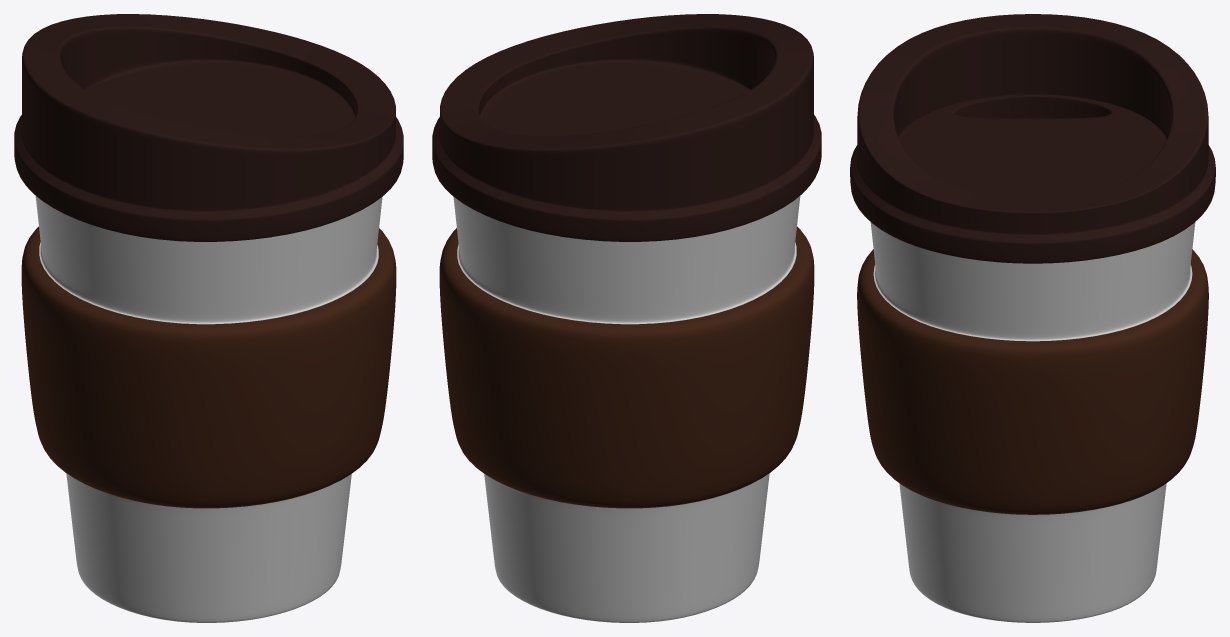
Rendered from coffeecup.gltf.
3 views of the same model, side by side, from view 1: azimuth 30°, elevation 25°; view 2: azimuth 150°, elevation 25°; view 3: azimuth 270°, elevation 25° (orthographic). The views are drawn at different scales.
Parts seen in each view (by area): view 1: Cube.030; view 2: Cube.030; view 3: Cube.030.
Part boxes in pixels (x1,y1,x2,y2): Cube.030: (14,14,403,622); Cube.030: (432,14,821,622); Cube.030: (850,14,1215,622).
Bounding box in the file's own units: 6.06 × 8.85 × 6.06.
